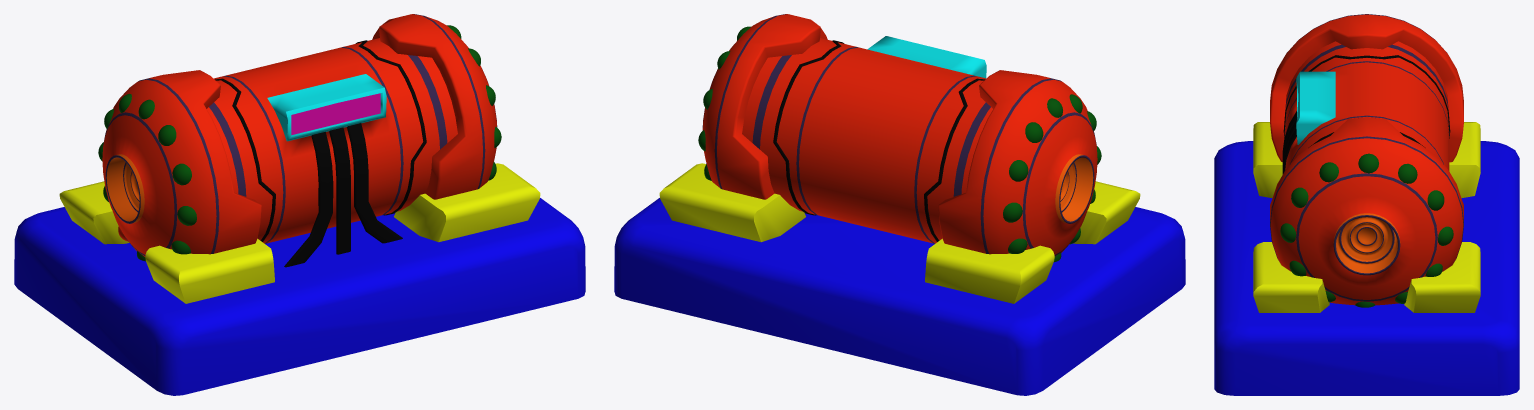
File: GeneratorR.fbx
3 views of the same model, side by side, from view 1: azimuth 30°, elevation 25°; view 2: azimuth 150°, elevation 25°; view 3: azimuth 270°, elevation 25° (orthographic). The views are drawn at different scales.
Parts seen in each view (by area): view 1: Cylinder.007; view 2: Cylinder.007; view 3: Cylinder.007.
Boxes of the visible parts, x1,y1,x2,y2 form: Cylinder.007: (14,14,585,395); Cylinder.007: (614,14,1185,395); Cylinder.007: (1214,14,1519,395).
Size of the model in its own units: 618 by 326 by 406.
